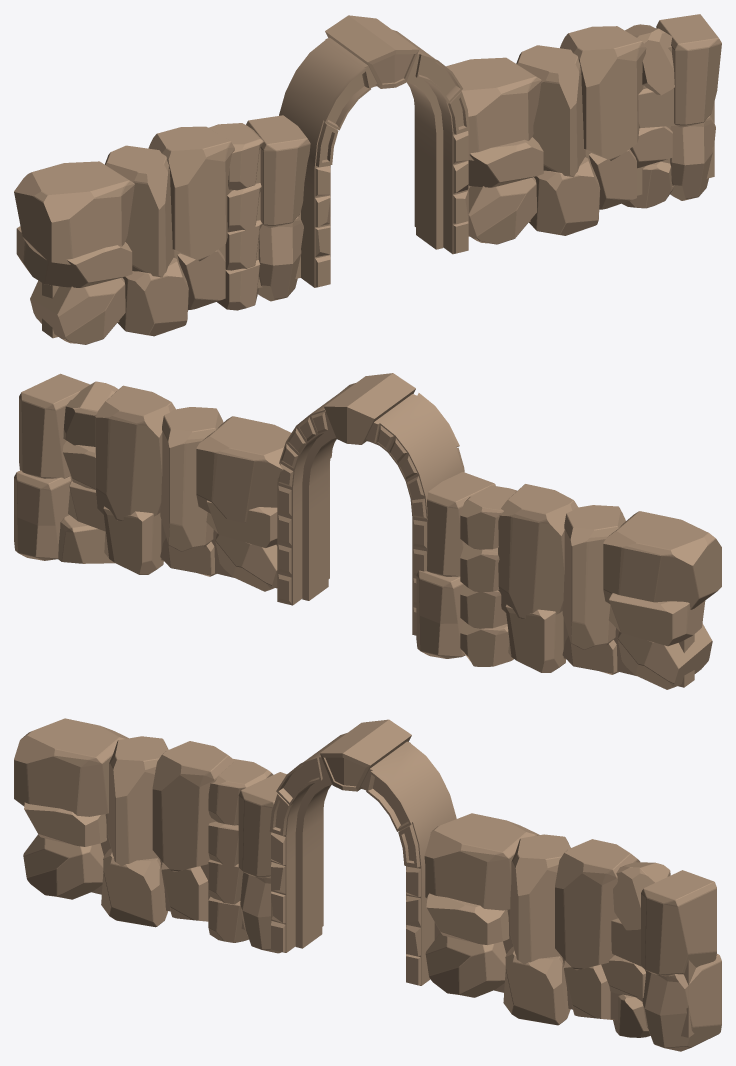
File: ArchGate01 (3).fbx
The picture shows the model from 3 angles, top to bottom: view 1: azimuth 30°, elevation 25°; view 2: azimuth 150°, elevation 25°; view 3: azimuth 330°, elevation 25°; orthographic projection. The views are drawn at different scales.
Parts seen in each view (by area): view 1: ArchGate; view 2: ArchGate; view 3: ArchGate.
Boxes of the visible parts, box(x1,y1,x2,y2) form: ArchGate: box(14, 14, 721, 344); ArchGate: box(14, 373, 721, 689); ArchGate: box(14, 718, 721, 1051).
Bounding box in the file's own units: 3170 × 1075 × 426.
